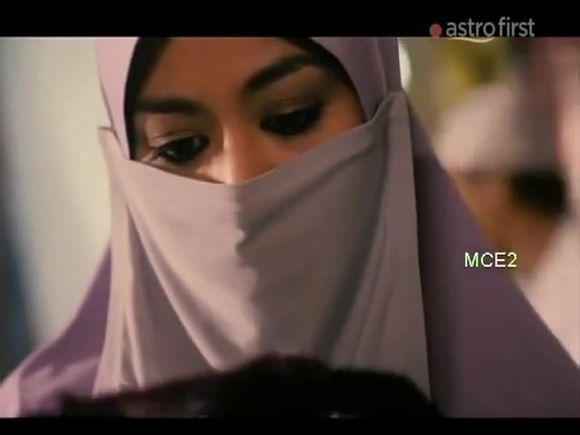OK: (139, 84, 356, 301)
